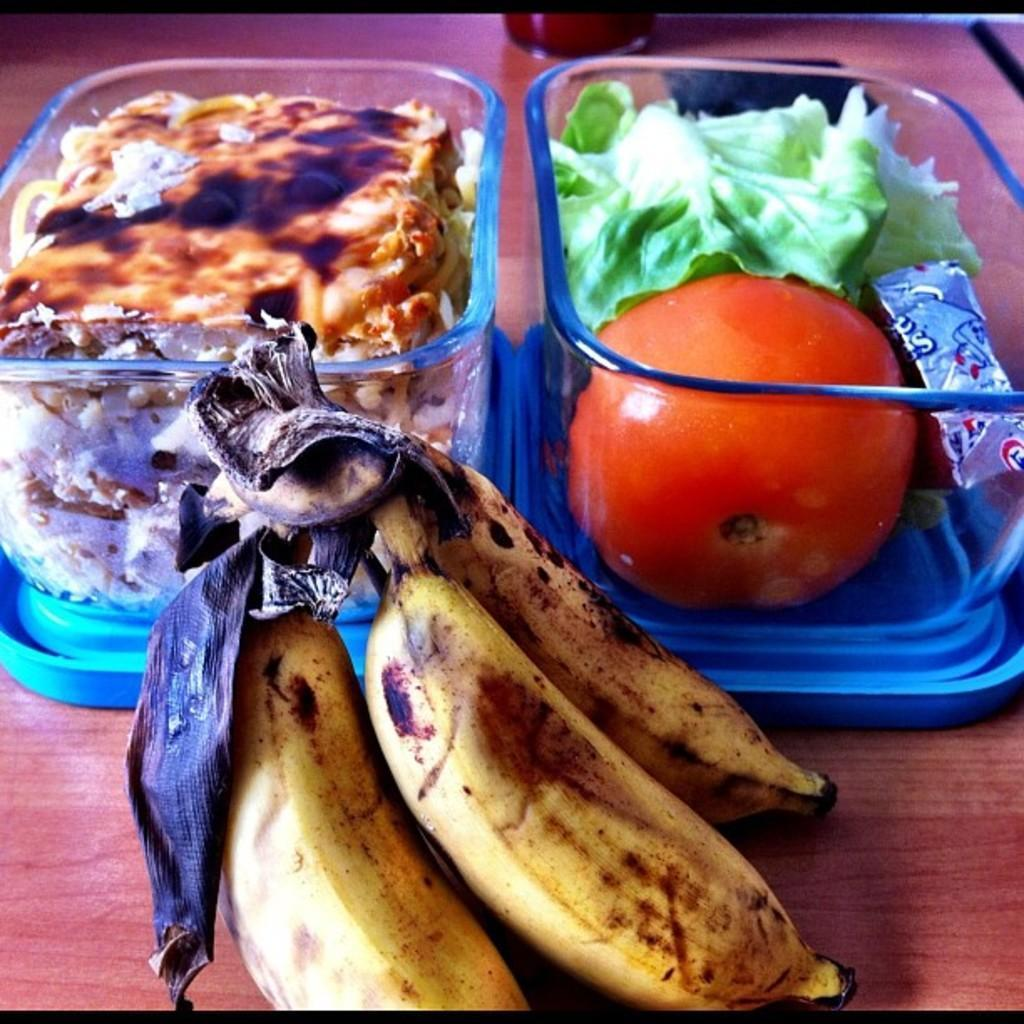banana: (359, 551, 858, 1015), (369, 440, 839, 839), (207, 617, 549, 1024)
